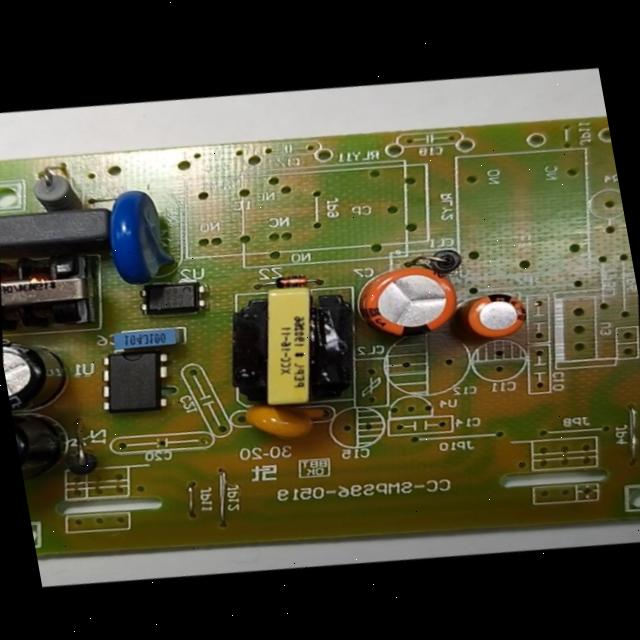Cap1: (338, 244, 472, 360)
Cap2: (437, 273, 542, 361)
Cap3: (0, 322, 85, 424)
Cap4: (10, 395, 90, 488)
MOSFET: (82, 337, 181, 430)
Mov: (87, 173, 192, 299)
Resistor: (15, 151, 89, 221)
Transformer: (211, 267, 377, 426), (0, 237, 108, 343)
